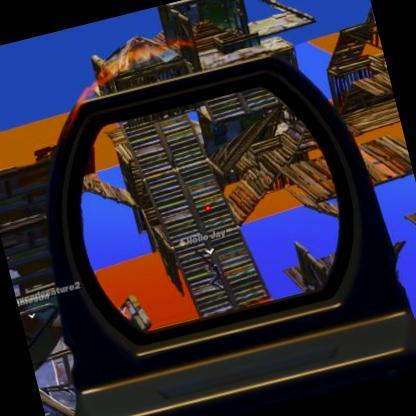person: (208, 258, 227, 288)
